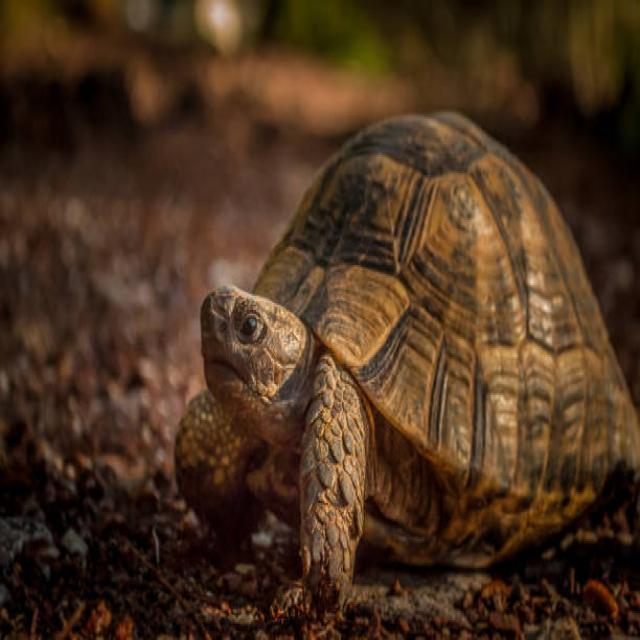tortoise: (174, 112, 640, 592)
